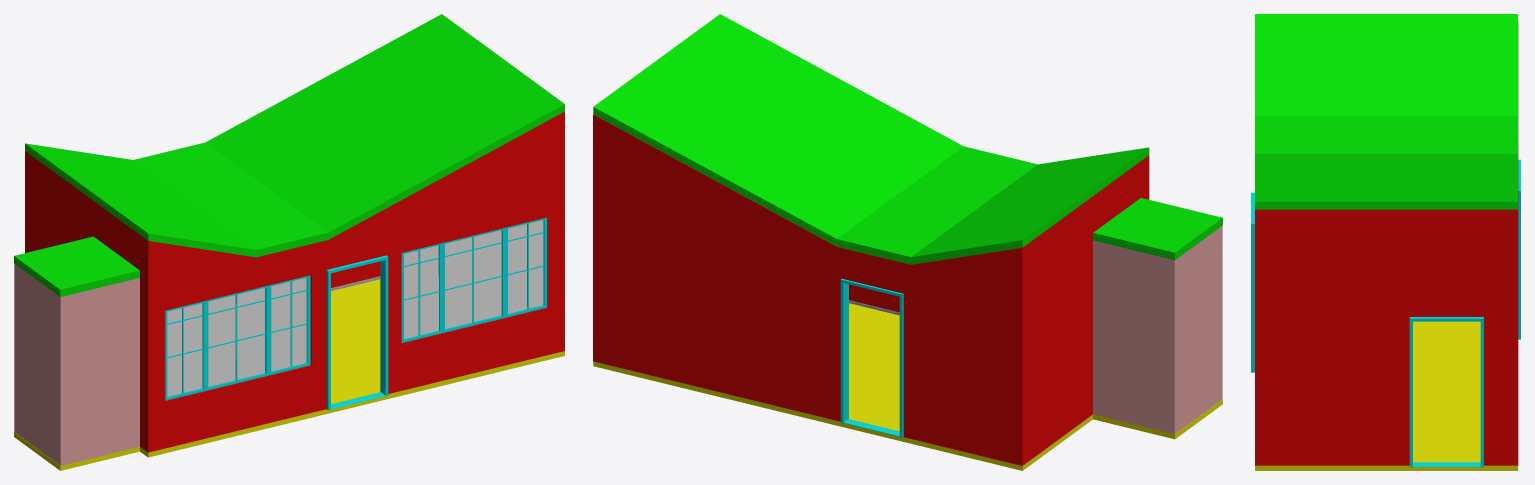
Rendered from FloorPlan522_physics.fbx.
The picture shows the model from 3 angles, left to right: view 1: azimuth 30°, elevation 25°; view 2: azimuth 150°, elevation 25°; view 3: azimuth 270°, elevation 25°; orthographic projection. The views are drawn at different scales.
Parts seen in each view (by area): view 1: FP522:Ceiling_1, FP522:Walls_1, FP522:Walls_2, FP522:WindowPane_1 (×2), FP522:Floor_1, FP522:Ceiling_2, FP522:WindowFrame_2, FP522:WindowFrame_1, FP522:DoorFrame_1, FP522:Floor_2; view 2: FP522:Walls_1, FP522:Ceiling_1, FP522:Walls_2, FP522:Floor_1, FP522:Ceiling_2, FP522:DoorFrame_3, FP522:Floor_2; view 3: FP522:Walls_1, FP522:Ceiling_1, FP522:Floor_1, FP522:DoorFrame_2, FP522:DoorFrame_1, FP522:DoorFrame_3, FP522:Floorboard_2.
Part boxes in pixels (<box>): FP522:Ceiling_1: <box>25,14,564,257</box>; FP522:Walls_1: <box>25,111,564,452</box>; FP522:Walls_2: <box>14,264,139,465</box>; FP522:WindowPane_1 (×2): <box>167,220,543,396</box>; FP522:Floor_1: <box>140,279,564,457</box>; FP522:Ceiling_2: <box>14,236,139,296</box>; FP522:WindowFrame_2: <box>165,275,310,400</box>; FP522:WindowFrame_1: <box>401,217,547,342</box>; FP522:DoorFrame_1: <box>326,255,388,410</box>; FP522:Floor_2: <box>14,432,139,470</box>; FP522:Walls_1: <box>593,114,1149,465</box>; FP522:Ceiling_1: <box>593,14,1149,264</box>; FP522:Walls_2: <box>1093,226,1222,434</box>; FP522:Floor_1: <box>593,303,1092,470</box>; FP522:Ceiling_2: <box>1093,198,1222,260</box>; FP522:DoorFrame_3: <box>840,278,903,437</box>; FP522:Floor_2: <box>1093,399,1222,439</box>; FP522:Walls_1: <box>1255,22,1518,465</box>; FP522:Ceiling_1: <box>1255,14,1517,209</box>; FP522:Floor_1: <box>1255,321,1517,470</box>; FP522:DoorFrame_2: <box>1409,317,1483,467</box>; FP522:DoorFrame_1: <box>1251,192,1254,372</box>; FP522:DoorFrame_3: <box>1518,159,1520,339</box>; FP522:Floorboard_2: <box>1413,462,1480,466</box>.
Size of the model in its own units: 774 by 373 by 339.
